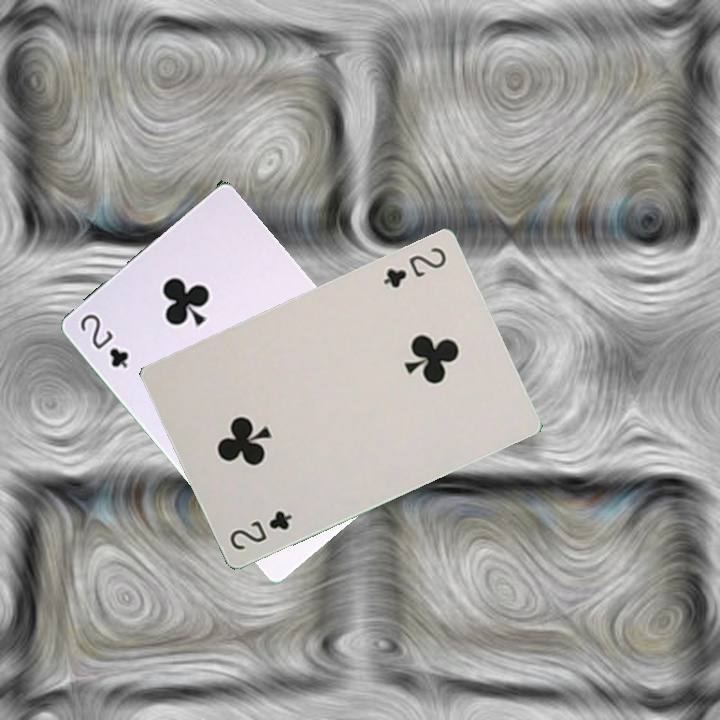2c: (76, 309, 132, 371), (379, 243, 449, 291), (225, 506, 295, 553)
